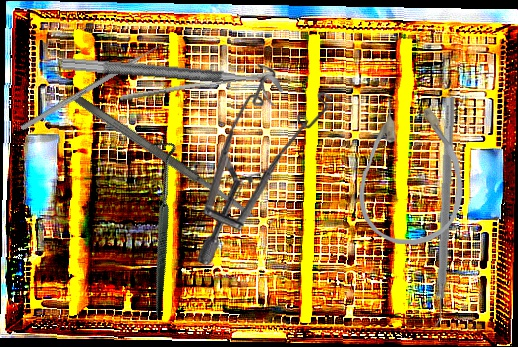Cannula: (358, 96, 465, 246)
Fixation Ring: (59, 56, 284, 108)
Hook Surgical: (76, 134, 241, 320)
Pusher: (19, 36, 173, 132), (119, 65, 276, 107)
Spatula Surgical: (71, 91, 257, 223), (427, 96, 456, 328)
Speculum: (196, 64, 334, 265)
